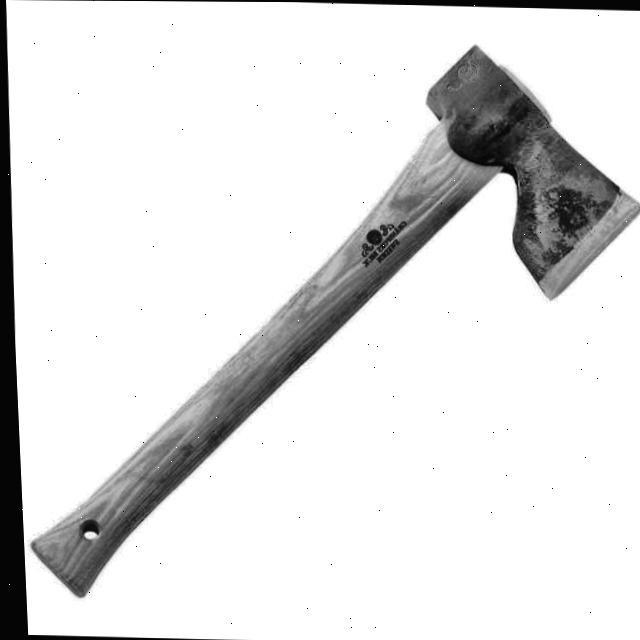kapak: (0, 2, 640, 621)
